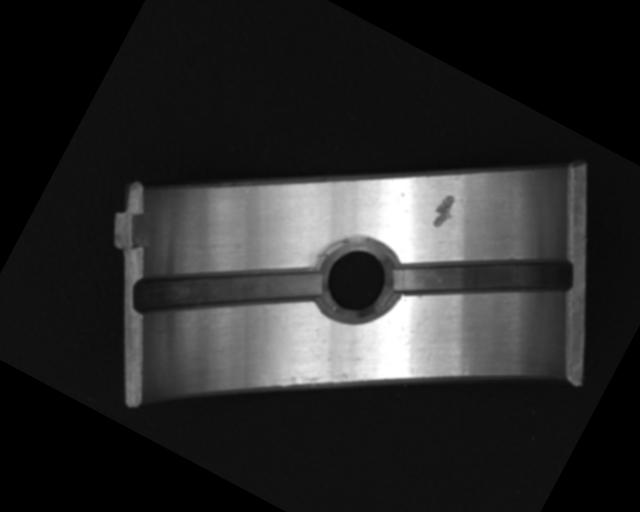bruise: (427, 189, 462, 232)
gap: (128, 199, 327, 380), (388, 190, 580, 360)
hole: (306, 223, 410, 333)
